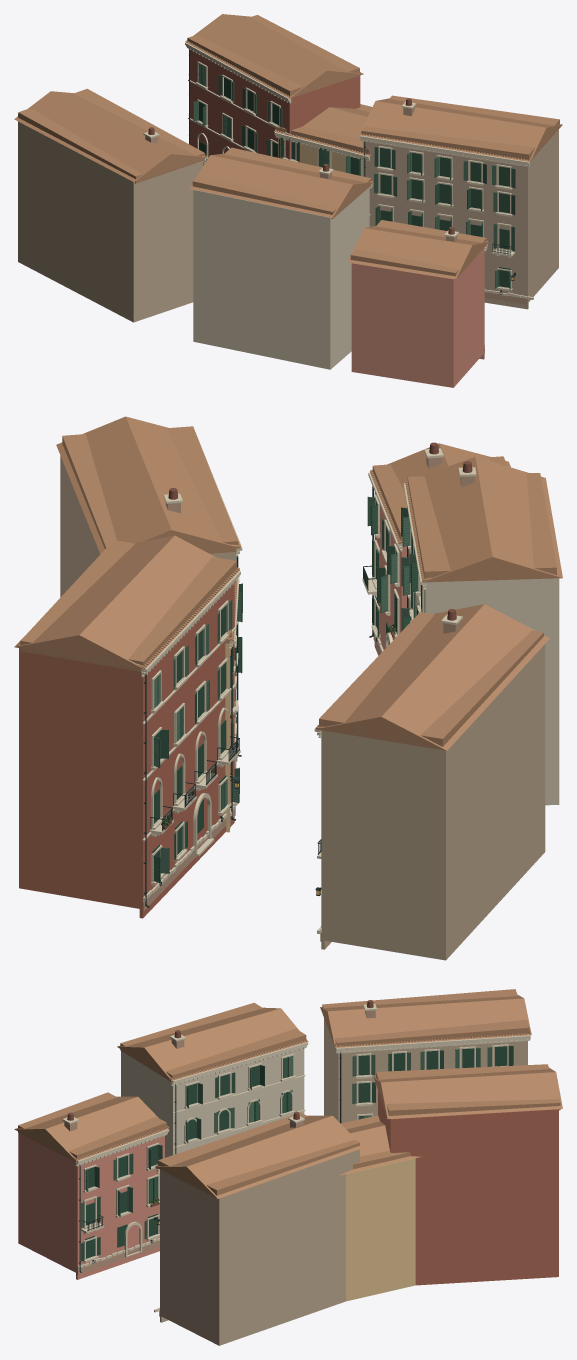
The model's file is canal-03.glb.
3 renders of one model, top to bottom at view 1: azimuth 30°, elevation 25°; view 2: azimuth 150°, elevation 25°; view 3: azimuth 270°, elevation 25°, orthographic. The views are drawn at different scales.
Parts seen in each view (by area): view 1: Main elevations / kit:roof, Main elevations / kit:walls:5, Main elevations / kit:walls:3, Distant elevations / kit:roof, Distant elevations / kit:walls:5, Main elevations / kit:walls:1, Main elevations / kit:stone, Distant elevations / kit:walls:4, Distant elevations / kit:greenDark, Distant elevations / kit:walls:1, Main elevations / kit:green, Main elevations / kit:greenDark (+2 smaller); view 2: Main elevations / kit:roof, Main elevations / kit:walls:5, Distant elevations / kit:walls:4, Distant elevations / kit:roof, Main elevations / kit:stone, Main elevations / kit:walls:3, Main elevations / kit:walls:4, Main elevations / kit:green, Main elevations / kit:greenDark, Distant elevations / kit:greenDark, Near ironwork and plants / kit:iron, Near ironwork and plants / kit:green (+5 smaller); view 3: Main elevations / kit:roof, Main elevations / kit:walls:4, Main elevations / kit:walls:5, Distant elevations / kit:roof, Distant elevations / kit:walls:1, Main elevations / kit:walls:2, Main elevations / kit:stone, Distant elevations / kit:walls:5, Distant elevations / kit:walls:3, Distant elevations / kit:greenDark, Main elevations / kit:walls:3, Main elevations / kit:green (+5 smaller).
Part boxes in pixels (bbox=[...]): Main elevations / kit:roof: bbox=[14, 14, 562, 279]; Main elevations / kit:walls:5: bbox=[18, 121, 558, 322]; Main elevations / kit:walls:3: bbox=[193, 187, 369, 369]; Distant elevations / kit:roof: bbox=[18, 15, 559, 279]; Distant elevations / kit:walls:5: bbox=[135, 141, 541, 321]; Main elevations / kit:walls:1: bbox=[351, 263, 484, 387]; Main elevations / kit:stone: bbox=[143, 42, 533, 346]; Distant elevations / kit:walls:4: bbox=[196, 57, 357, 159]; Distant elevations / kit:greenDark: bbox=[199, 77, 510, 287]; Distant elevations / kit:walls:1: bbox=[459, 247, 484, 380]; Main elevations / kit:green: bbox=[193, 63, 515, 290]; Main elevations / kit:greenDark: bbox=[202, 87, 515, 236]; Main elevations / kit:roof: bbox=[14, 416, 562, 750]; Main elevations / kit:walls:5: bbox=[60, 456, 545, 960]; Distant elevations / kit:walls:4: bbox=[23, 582, 234, 909]; Distant elevations / kit:roof: bbox=[20, 426, 556, 746]; Main elevations / kit:stone: bbox=[141, 437, 476, 933]; Main elevations / kit:walls:3: bbox=[410, 578, 559, 805]; Main elevations / kit:walls:4: bbox=[19, 611, 234, 918]; Main elevations / kit:green: bbox=[154, 496, 421, 873]; Main elevations / kit:greenDark: bbox=[153, 505, 418, 883]; Distant elevations / kit:greenDark: bbox=[152, 501, 424, 857]; Near ironwork and plants / kit:iron: bbox=[143, 486, 409, 907]; Near ironwork and plants / kit:green: bbox=[153, 518, 422, 804]; Main elevations / kit:roof: bbox=[14, 995, 562, 1198]; Main elevations / kit:walls:4: bbox=[390, 1109, 558, 1285]; Main elevations / kit:walls:5: bbox=[160, 1018, 527, 1345]; Distant elevations / kit:roof: bbox=[18, 989, 560, 1195]; Distant elevations / kit:walls:1: bbox=[29, 1136, 164, 1273]; Main elevations / kit:walls:2: bbox=[346, 1158, 415, 1301]; Main elevations / kit:stone: bbox=[62, 1004, 530, 1312]; Distant elevations / kit:walls:5: bbox=[160, 1019, 512, 1328]; Distant elevations / kit:walls:3: bbox=[171, 1049, 304, 1155]; Distant elevations / kit:greenDark: bbox=[85, 1046, 506, 1258]; Main elevations / kit:walls:3: bbox=[121, 1051, 297, 1157]; Main elevations / kit:green: bbox=[81, 1047, 492, 1239].
Bounding box in the file's own units: 42.12 × 18.39 × 47.49.
